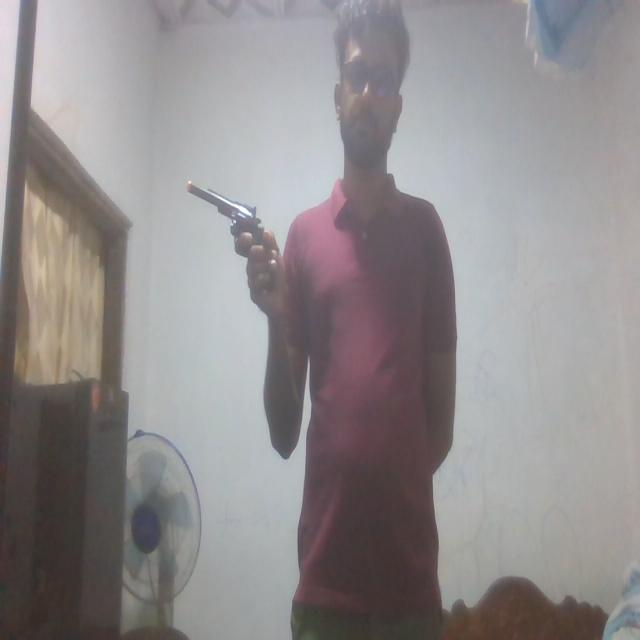Gun_Holder: (191, 181, 275, 305)
Person: (247, 2, 456, 640)
